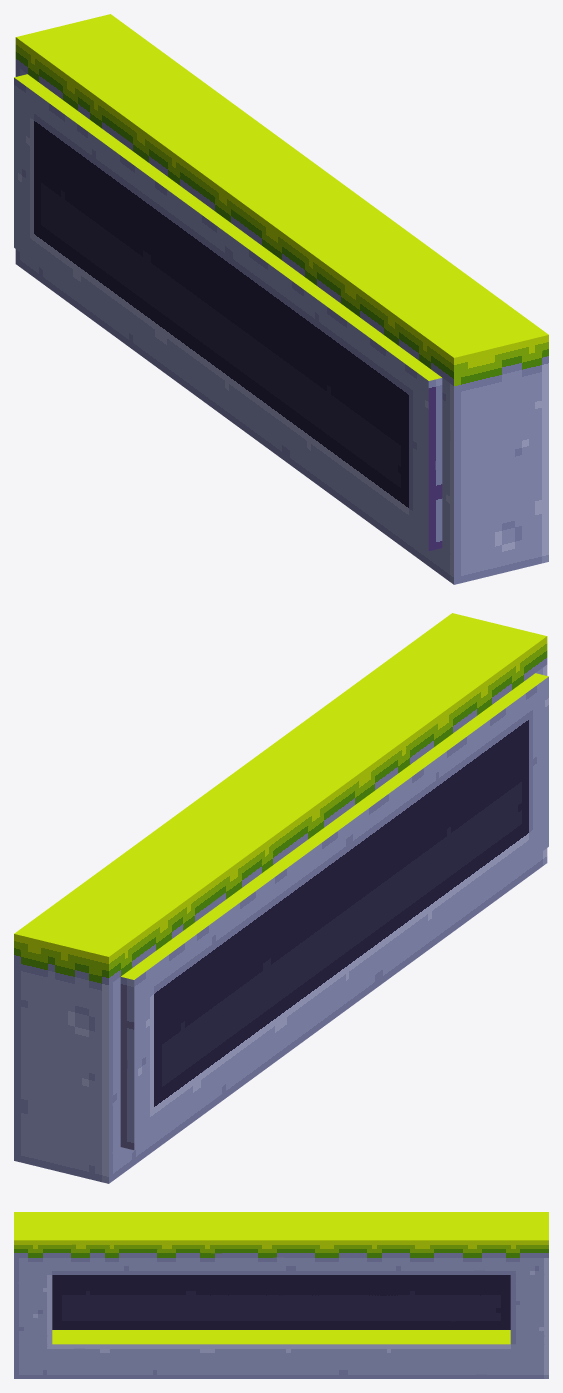
The model's file is waterfall_head_mouthao.fezao.glb.
3 views of the same model, one above another, from view 1: azimuth 30°, elevation 25°; view 2: azimuth 150°, elevation 25°; view 3: azimuth 270°, elevation 25° (orthographic). The views are drawn at different scales.
Parts seen in each view (by area): view 1: WATERFALL_HEAD_MOUTHAO; view 2: WATERFALL_HEAD_MOUTHAO; view 3: WATERFALL_HEAD_MOUTHAO.
Boxes of the visible parts, bbox=[...] form: WATERFALL_HEAD_MOUTHAO: bbox=[14, 14, 548, 584]; WATERFALL_HEAD_MOUTHAO: bbox=[14, 613, 548, 1183]; WATERFALL_HEAD_MOUTHAO: bbox=[14, 1212, 548, 1378].
Size of the model in its own units: 1 by 2 by 7.
1 material, 1 textured.
